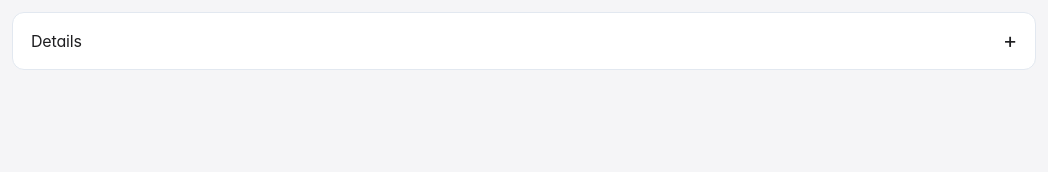
compound renderer navigation › opens and closes disclosures while keeping static preview controls inert
Later steps or results of the test are not shown.
Click the button "Details +" at (56, 41), box [13, 13, 1035, 69]
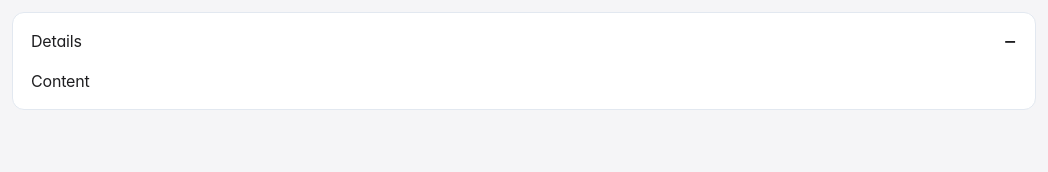
Now the element showing "Content" is shown, box [31, 71, 90, 91]
